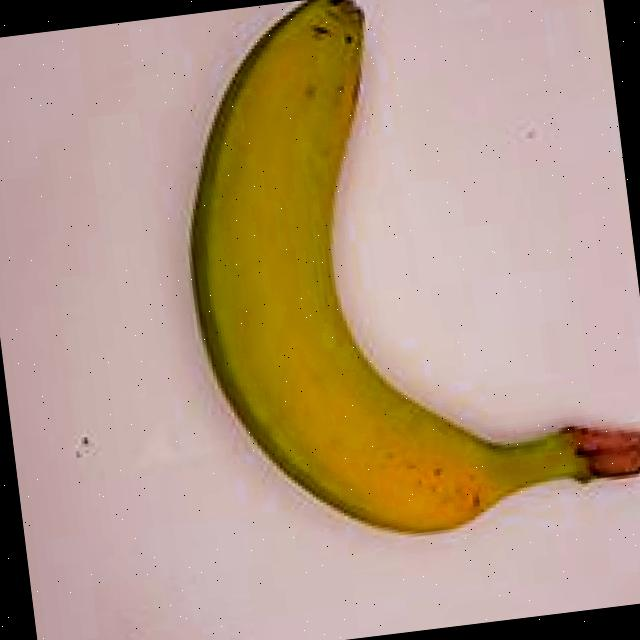Unripe: (81, 0, 640, 594)
